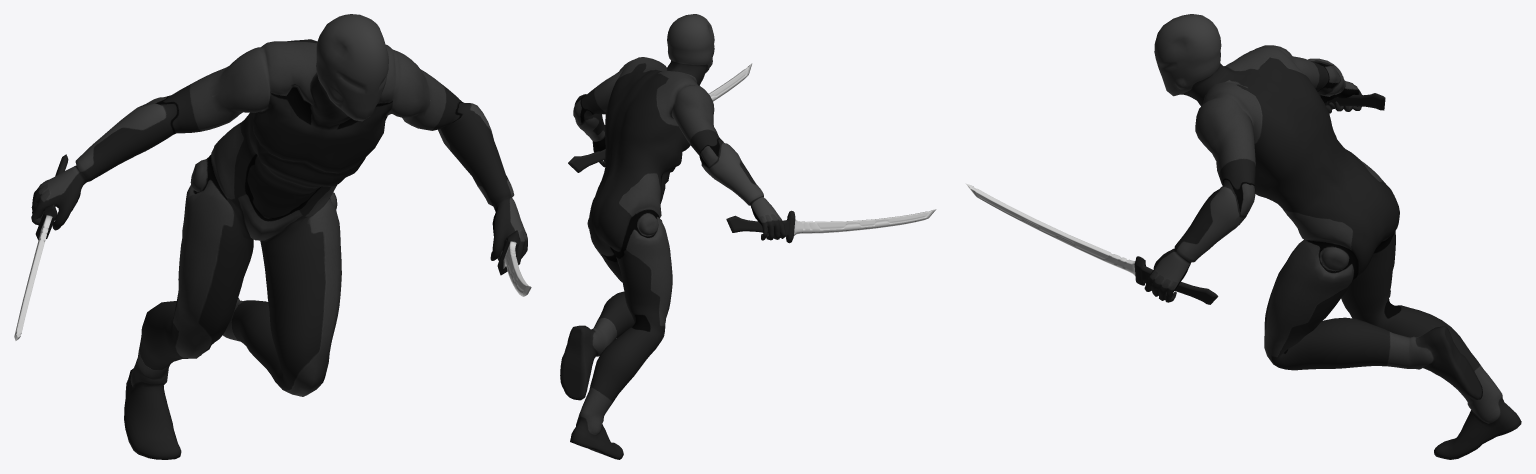
3 renders of one model, left to right at view 1: azimuth 30°, elevation 25°; view 2: azimuth 150°, elevation 25°; view 3: azimuth 270°, elevation 25°, orthographic. The views are drawn at different scales.
Parts seen in each view (by area): view 1: Cyborg_Ninja_Killer, Sword_l001, Sword_l; view 2: Cyborg_Ninja_Killer, Sword_l001, Sword_l; view 3: Cyborg_Ninja_Killer, Sword_l, Sword_l001.
Part boxes in pixels (x1=…): Cyborg_Ninja_Killer: x1=31, y1=14, x2=527, y2=459; Sword_l001: x1=14, y1=154, x2=68, y2=340; Sword_l: x1=497, y1=230, x2=531, y2=296; Cyborg_Ninja_Killer: x1=560, y1=14, x2=785, y2=459; Sword_l001: x1=726, y1=209, x2=936, y2=243; Sword_l: x1=568, y1=63, x2=752, y2=172; Cyborg_Ninja_Killer: x1=1144, y1=14, x2=1521, y2=459; Sword_l: x1=965, y1=183, x2=1218, y2=304; Sword_l001: x1=1327, y1=93, x2=1385, y2=110.
Size of the model in its own units: 156 by 154 by 171.
Materials: 2 (2 with a texture image).
